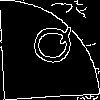Q: (25, 25, 74, 65)
